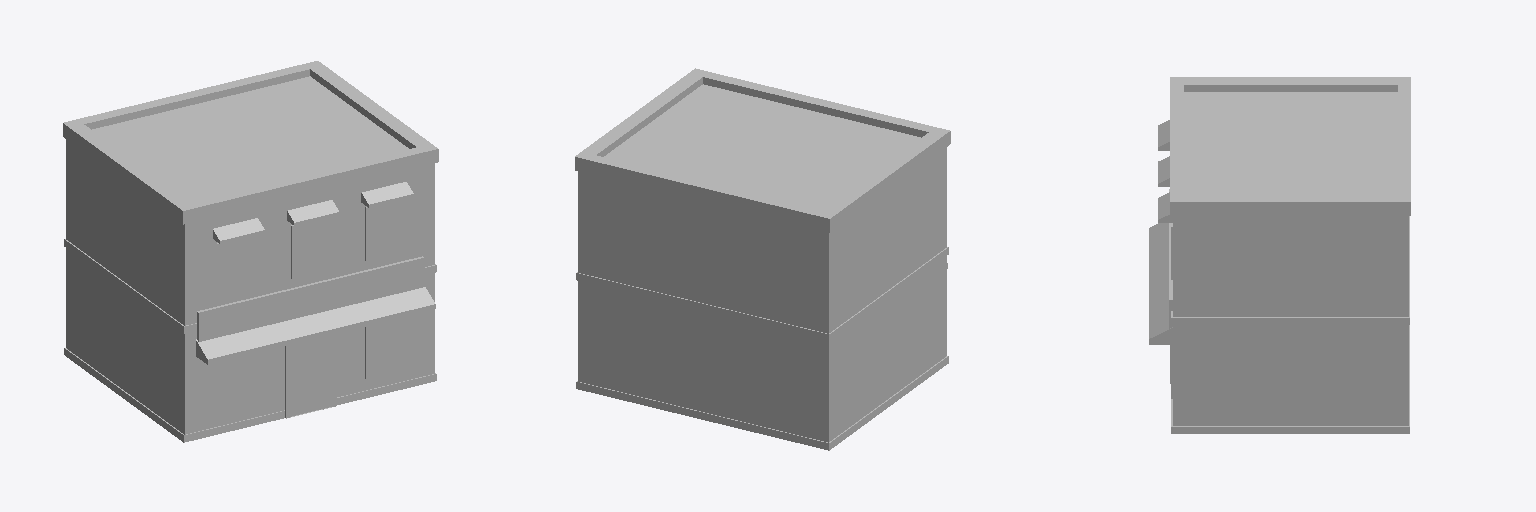
The model's file is fried-chicken.obj.
3 renders of one model, left to right at view 1: azimuth 30°, elevation 25°; view 2: azimuth 150°, elevation 25°; view 3: azimuth 270°, elevation 25°, orthographic.
Parts seen in each view (by area): view 1: Building_Chicken_Shop; view 2: Building_Chicken_Shop; view 3: Building_Chicken_Shop.
Part boxes in pixels (x1,y1,x2,y2): Building_Chicken_Shop: (63,61,438,442); Building_Chicken_Shop: (575,68,950,450); Building_Chicken_Shop: (1149,77,1410,433).
Bounding box in the file's own units: 442 × 384 × 394.